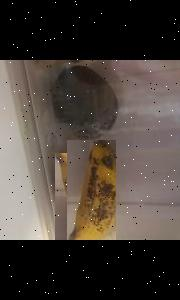Aguacate: (49, 64, 118, 142)
Plátano: (54, 153, 113, 240), (66, 140, 115, 240)
